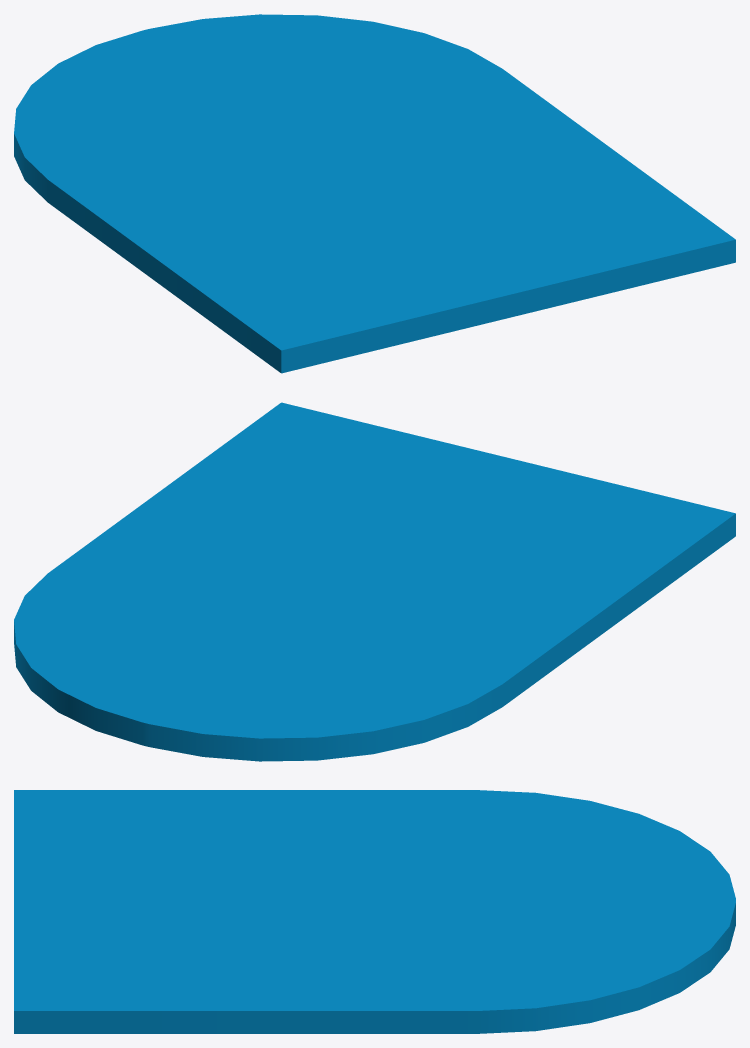
The picture shows the model from 3 angles, top to bottom: view 1: azimuth 30°, elevation 25°; view 2: azimuth 150°, elevation 25°; view 3: azimuth 270°, elevation 25°; orthographic projection.
Parts seen in each view (by area): view 1: robot-bottom_plate; view 2: robot-bottom_plate; view 3: robot-bottom_plate.
Boxes of the visible parts, x1,y1,x2,y2 form: robot-bottom_plate: (14, 14, 735, 373); robot-bottom_plate: (14, 402, 735, 761); robot-bottom_plate: (14, 790, 735, 1033).
Size of the model in its own units: 0.7013 by 0.9688 by 0.0339.
